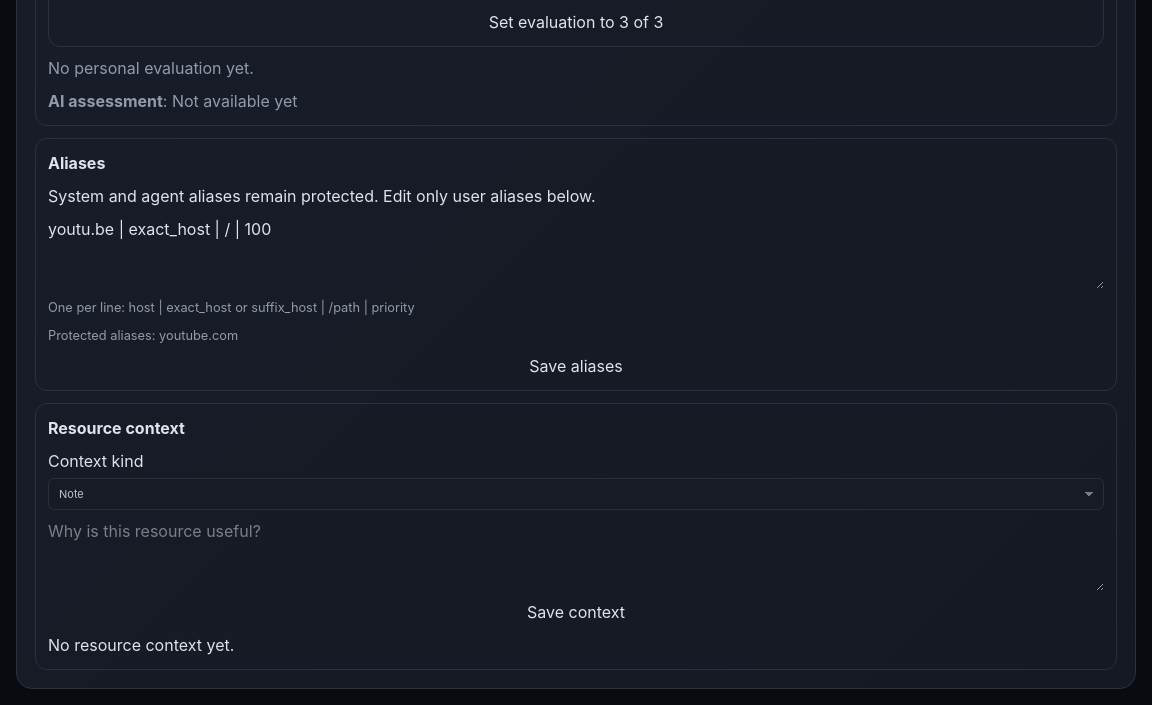
ResourceHeader › refreshes resource versions after a CAS conflict
(page scrolled)
Click the button "Save aliases" at (576, 366), box top-left (48, 354), bottom-right (1104, 378)
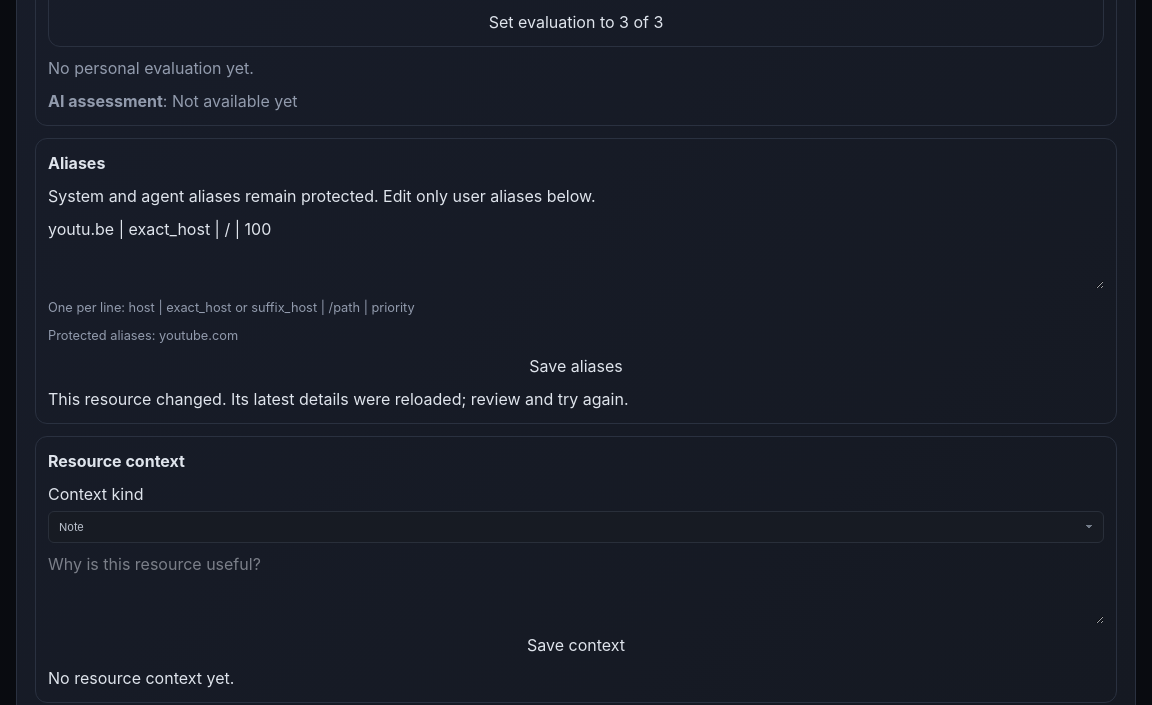
Now the message "This resource changed. Its latest details were reloaded; review and try again." is shown, box top-left (48, 389), bottom-right (628, 409)
